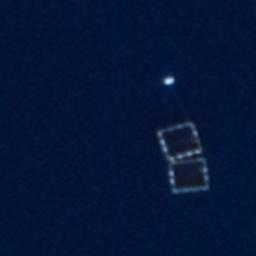square_solid: (153, 120, 208, 163), (164, 154, 214, 196)
